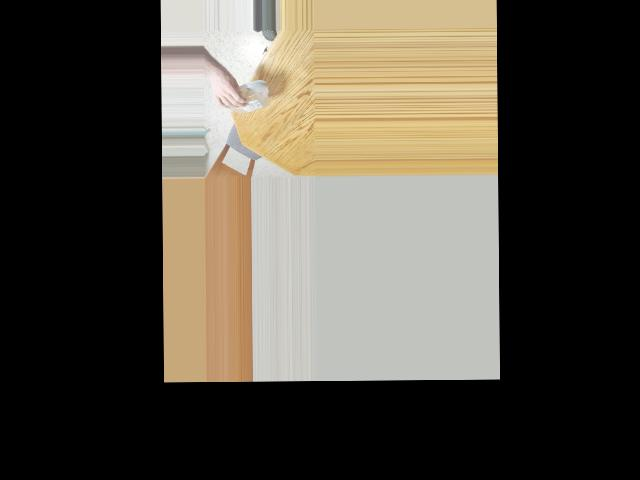cheese: (218, 79, 256, 112)
